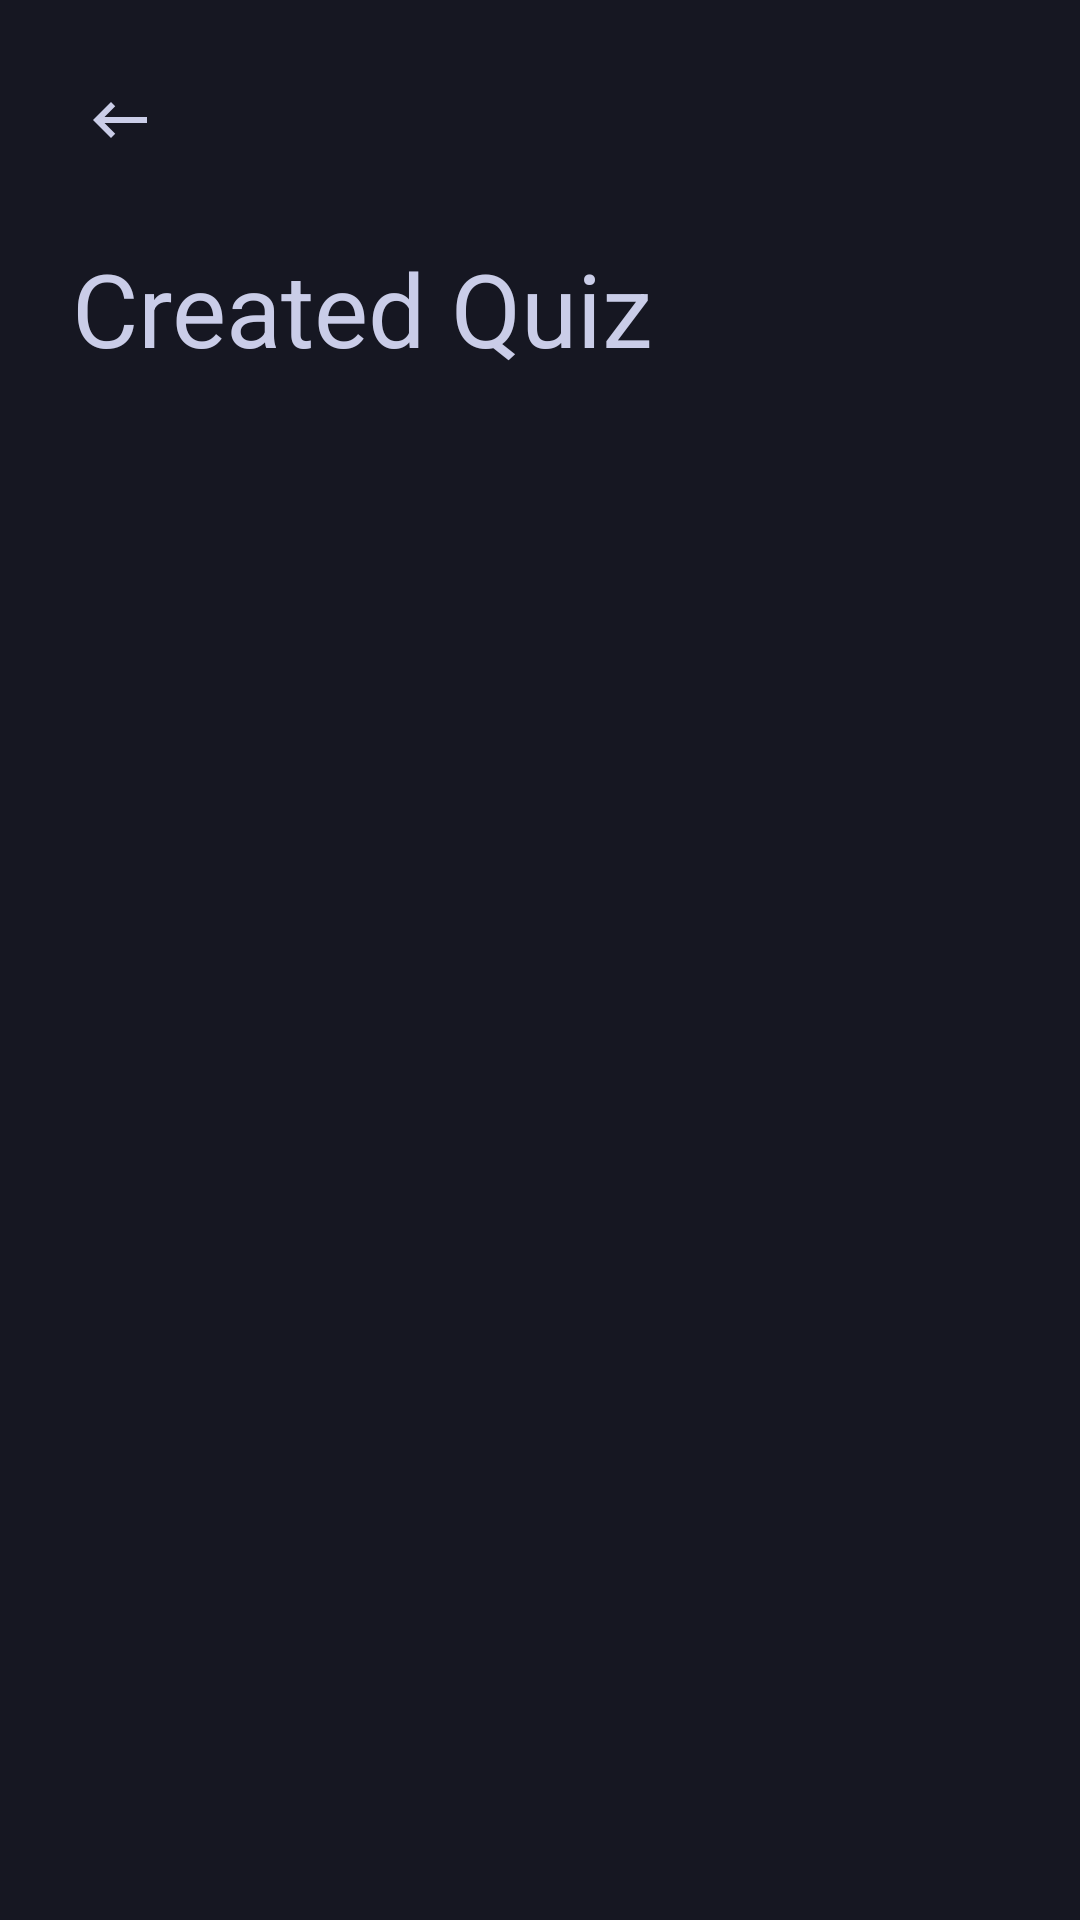

Icon bounding boxes for this 1080px×1920px phone screenshot, format [x1, y1, x2, y2]:
keyboard backspace: [93, 102, 147, 138]
